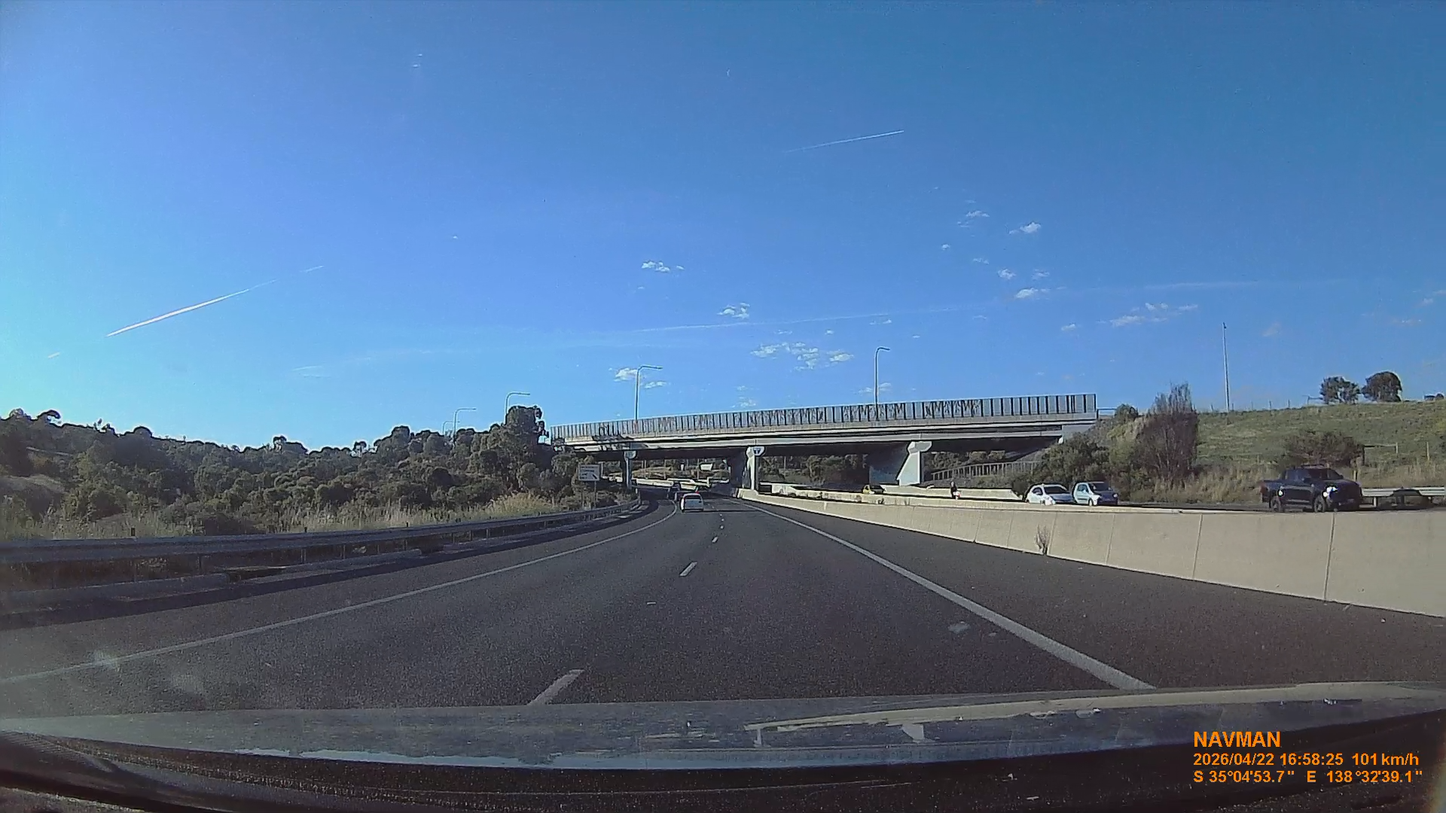road barriers: (755, 490, 1444, 612), (2, 503, 633, 589)
